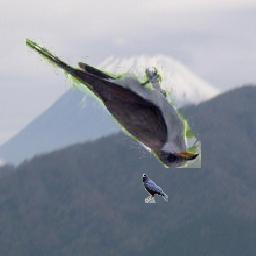Crow: (142, 173, 169, 203)
Cuckoo: (27, 36, 202, 168)
